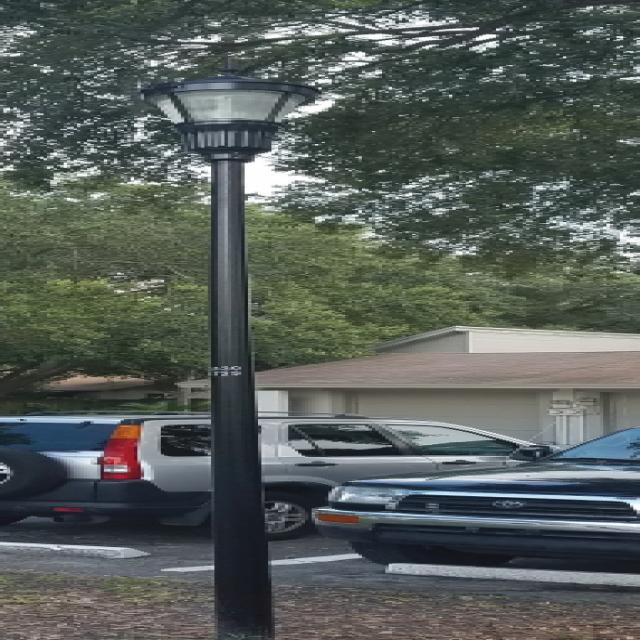Electric pole: (141, 67, 318, 640)
